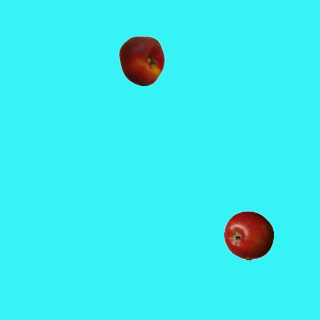Apple Braeburn: (223, 210, 273, 260)
Nectarine Flat: (116, 35, 166, 85)
